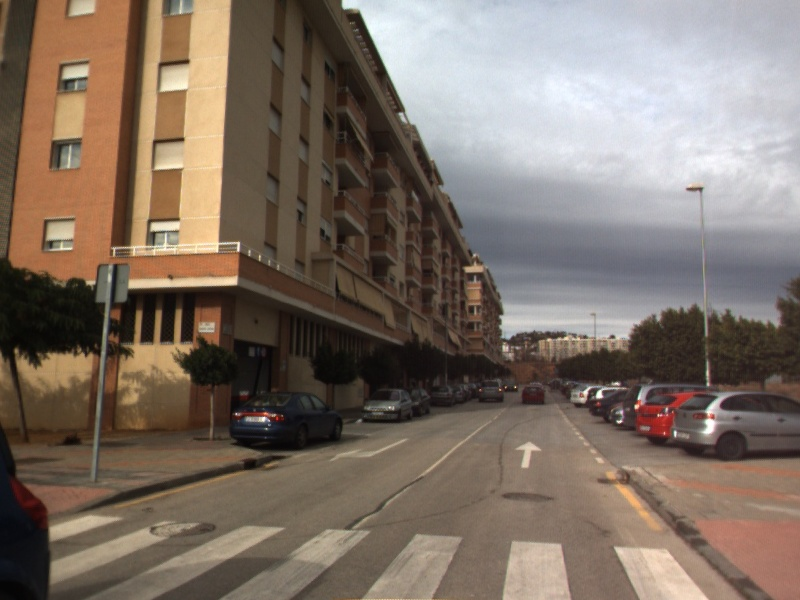STRAIGHT: (513, 439, 544, 470)
